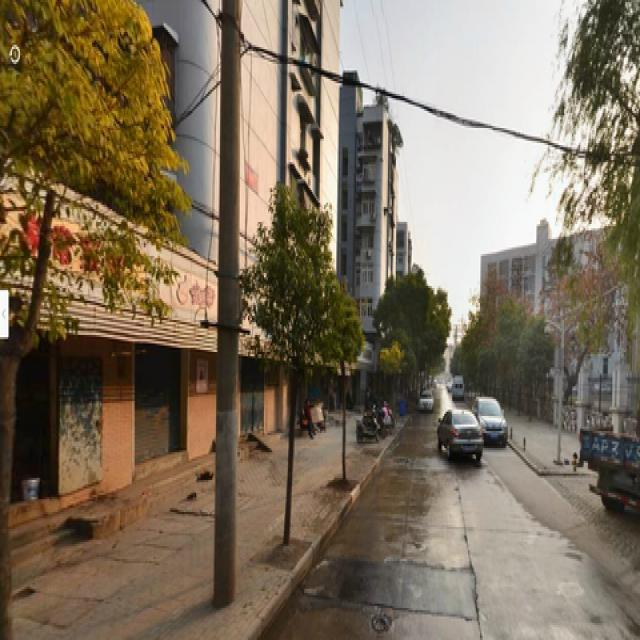cinn: (257, 188, 328, 546)
